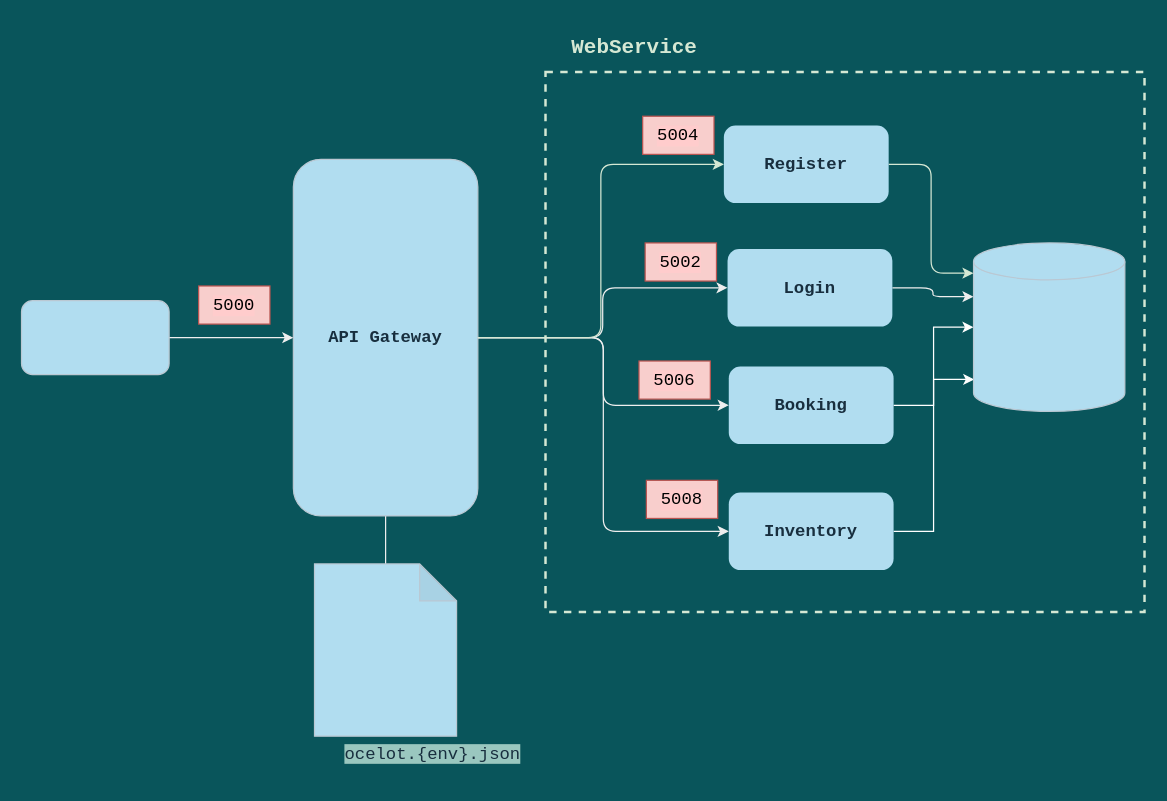
Some shapes in this 1167 by 801 pixel diagram are drawn without their labels. The shapes that lost their labels are listed below. From the top down, each one's box as (x1, y1, x2, y2) in pixels, then its label:
(20, 300, 169, 375): request
(972, 242, 1125, 411): FlightTicket BookingDB
(313, 563, 457, 736): ROUTES : ........... ...........
